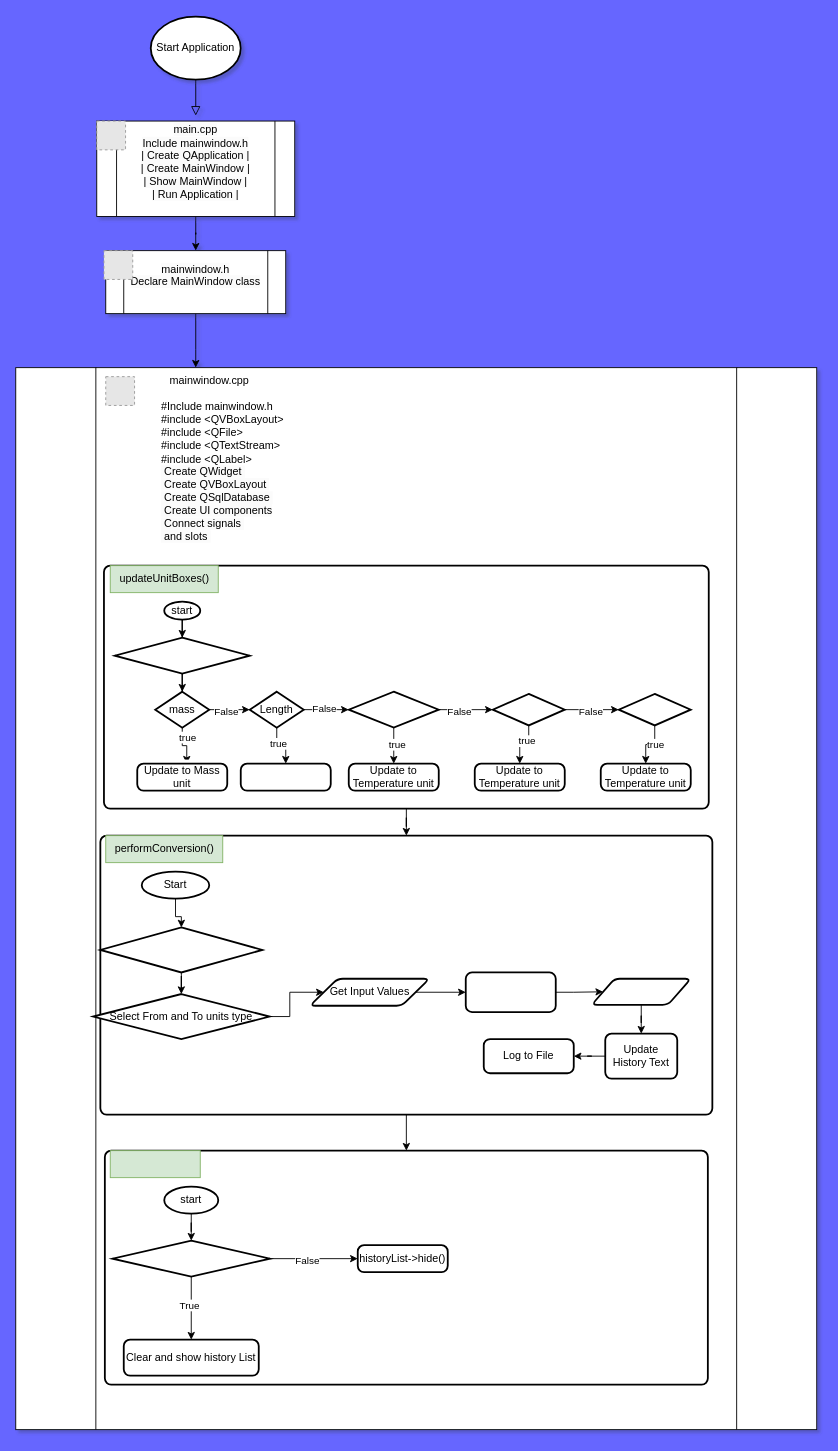
The diagram is 838 pixels wide and 1451 high, and some of its shapes have lost their labels. Grey dashed boxes stand in for pictures. The centre of each missing label's shape, as x and y in pixels:
"Currency" belongs at (x=654, y=709).
"Display Data" belongs at (x=640, y=991).
"Get Conversion Type" belongs at (x=181, y=655).
"historyList->isHidden()" belongs at (x=190, y=1258).
"Perform Conversion" belongs at (x=510, y=991).
"Select Conversion Type" belongs at (x=181, y=949).
"showHistory()" belongs at (x=154, y=1164).
"Temperature" belongs at (x=393, y=709).
"Time" belongs at (x=528, y=709).
"Update to Length unit" belongs at (x=285, y=776).
